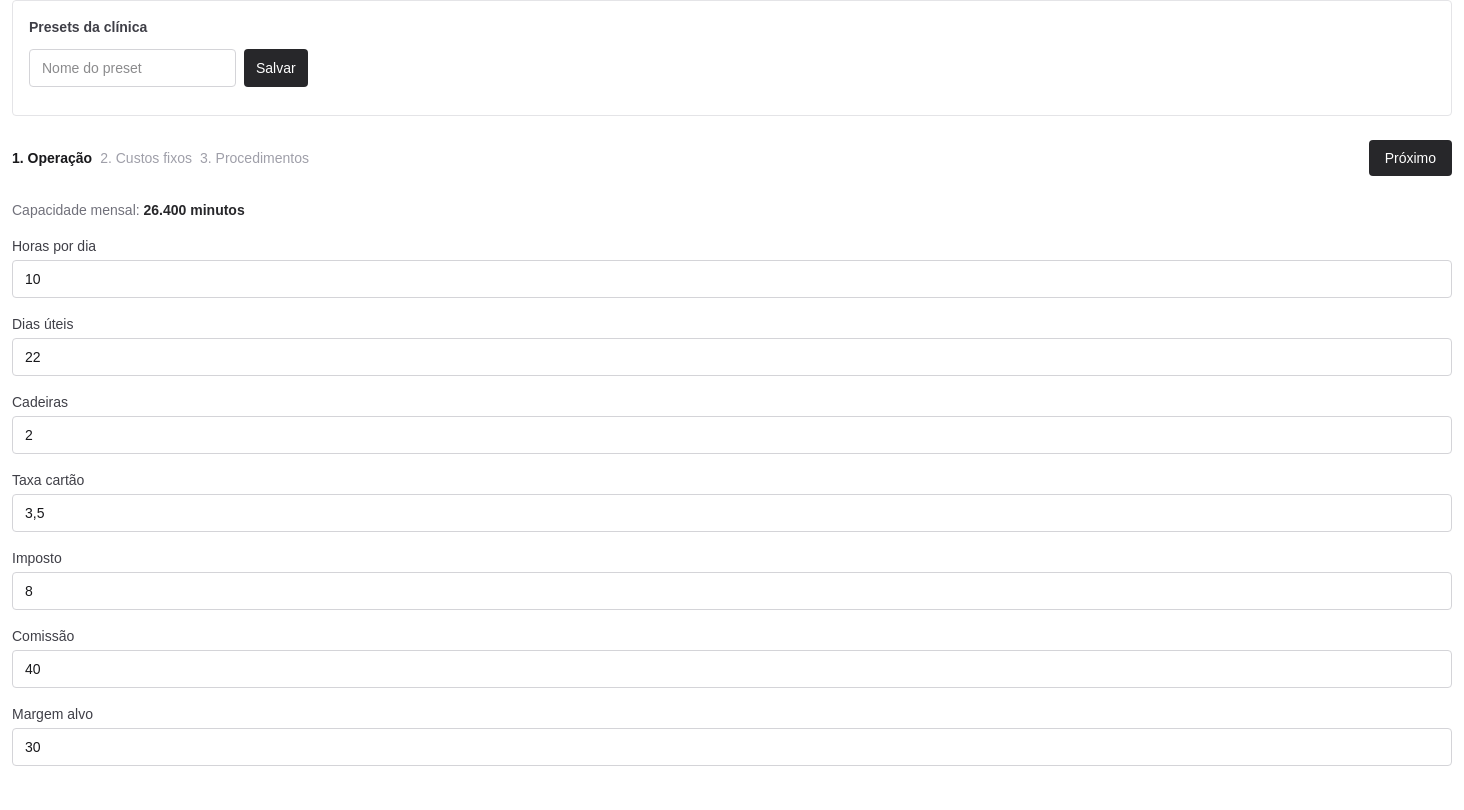
Scenario: LucreWizard › navigates through the three steps with Próximo
This screenshot has width=1464, height=810.
Check: the field labelled "Horas por dia" is shown, box [12,260,1452,298]
Click the button "Próximo": {"x": 1410, "y": 158} [1369,140,1452,176]
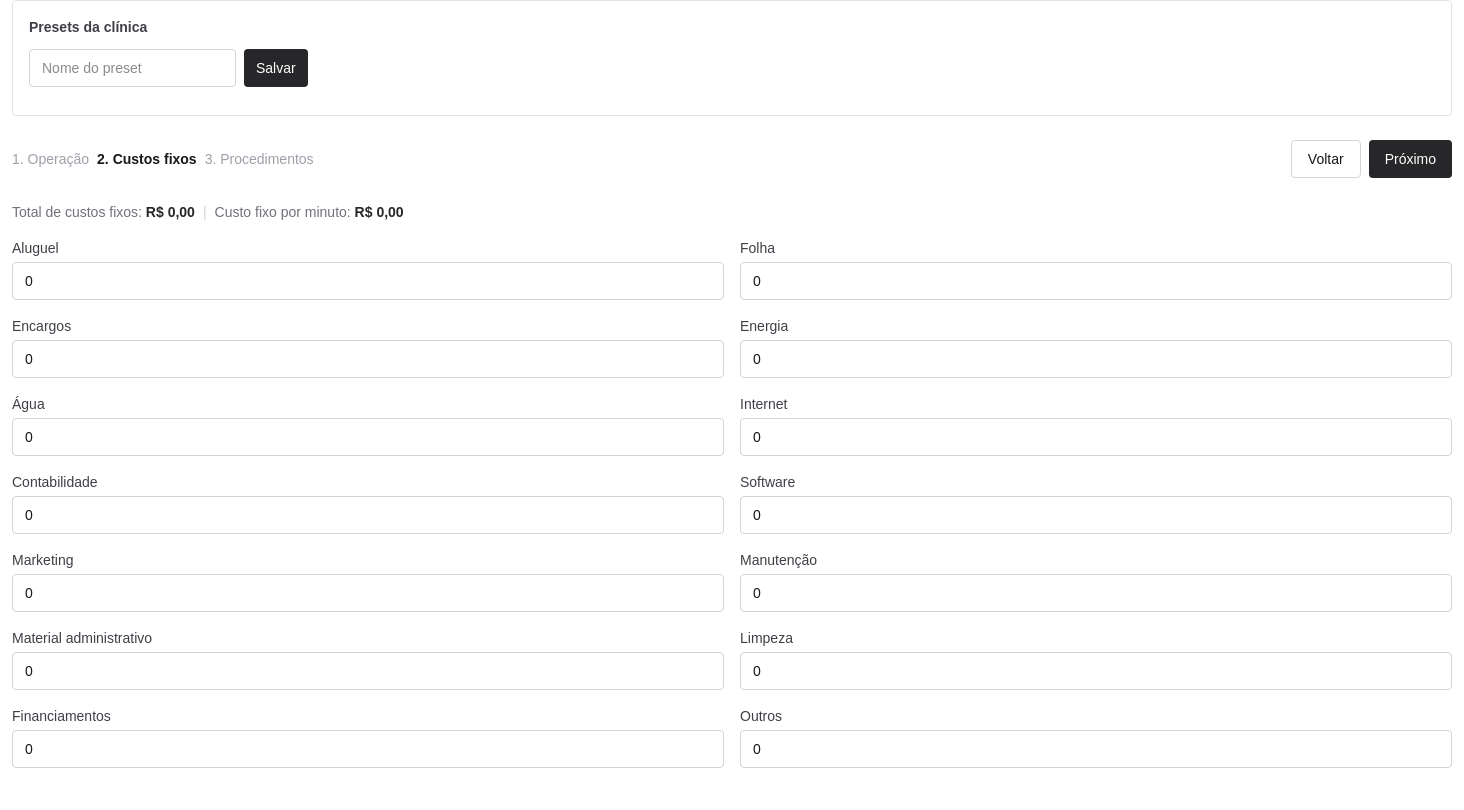
Check: the field labelled "Aluguel" is shown, box [12,262,724,300]
Click the button "Próximo": {"x": 1410, "y": 159} [1369,140,1452,178]
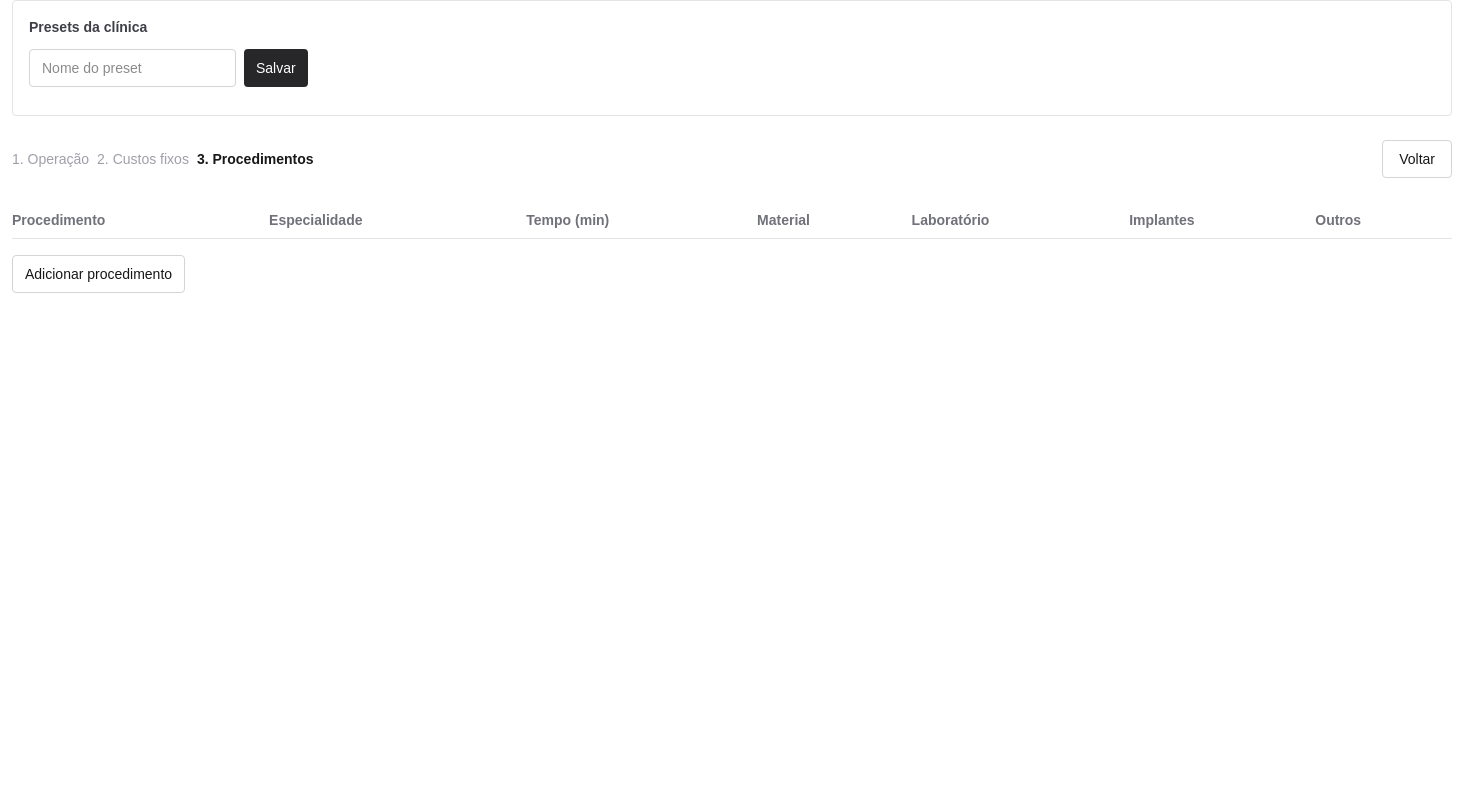
Check: the button "Adicionar procedimento" is shown, box [12,255,185,293]
